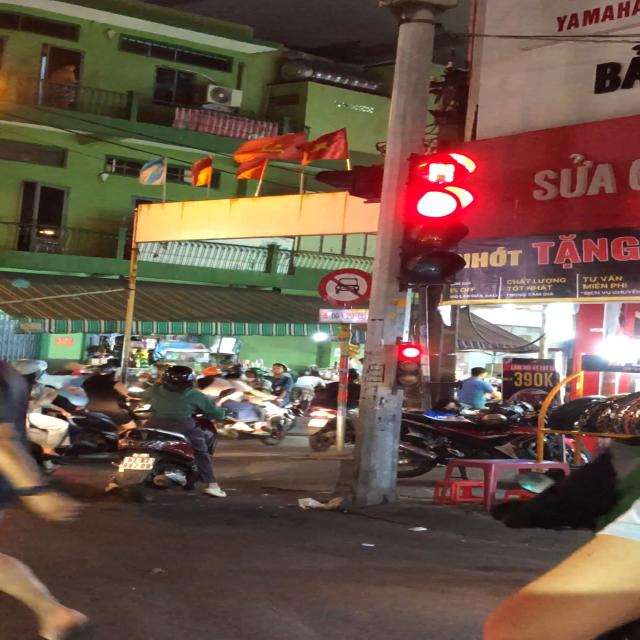Bien bao cam xe oto: (317, 266, 375, 308)
